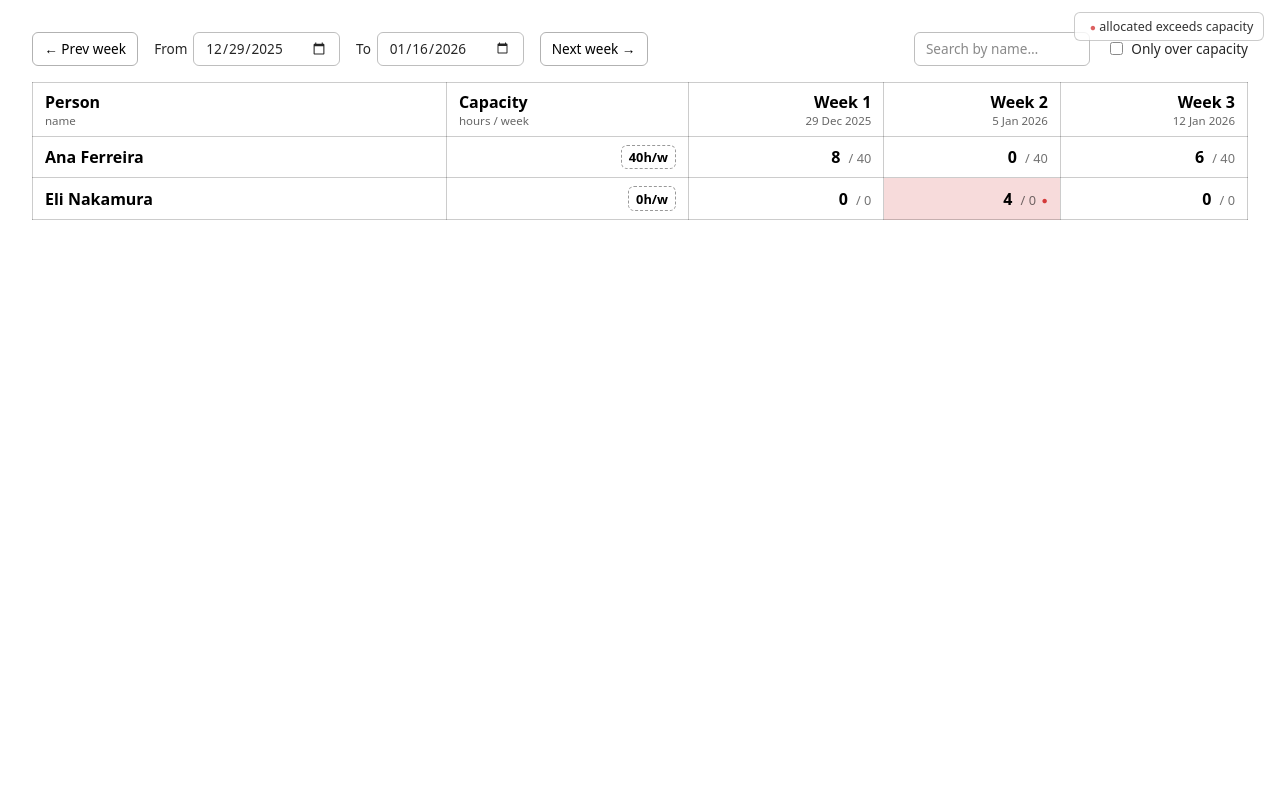
Test: CapacityGrid › shows a retry toast and rolls back when a save fails
Expected: the column heading "Ana Ferreira" is shown, [32,136,446,178]
Click the button titled "Edit Ana Ferreira's weekly hours" at (648, 157), box [621,145,676,169]
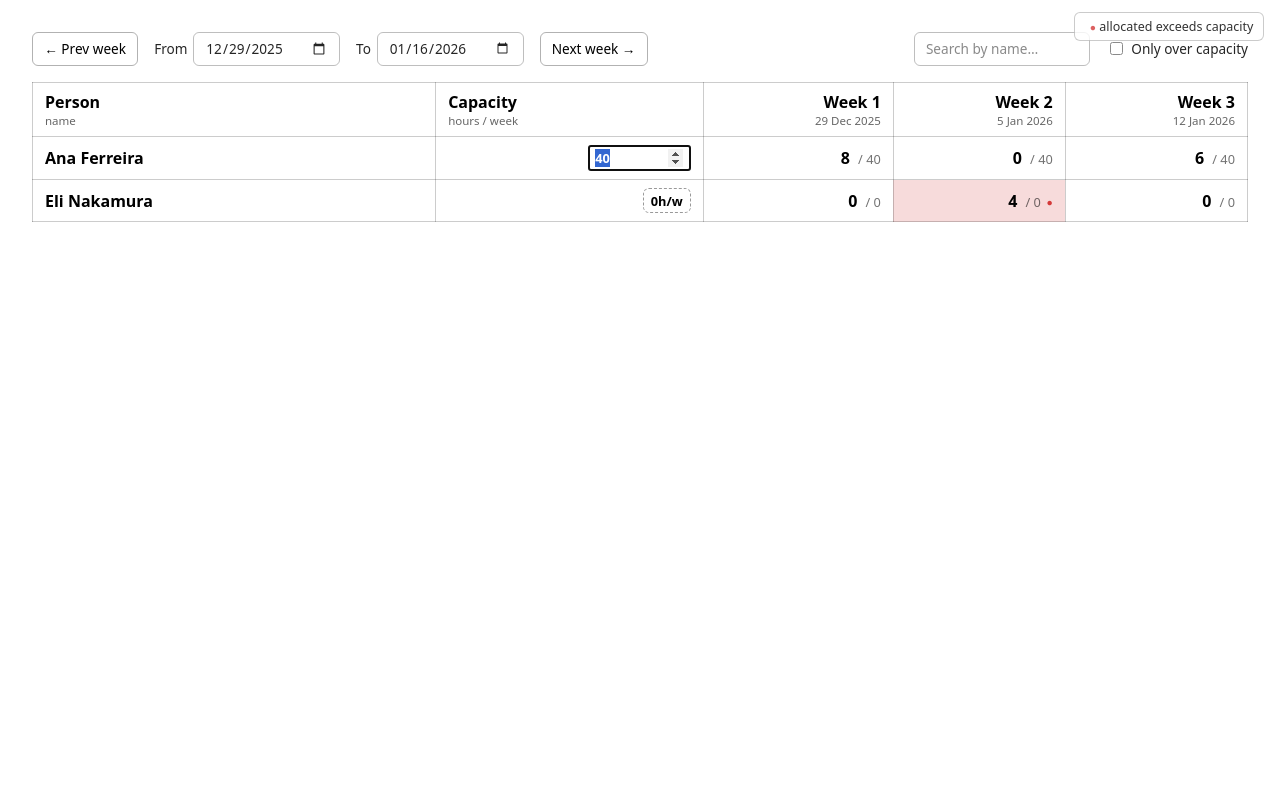
Replace the text in the number field named "Weekly hours for Ana Ferreira" with "36" at (639, 158), box [588,145,691,171]
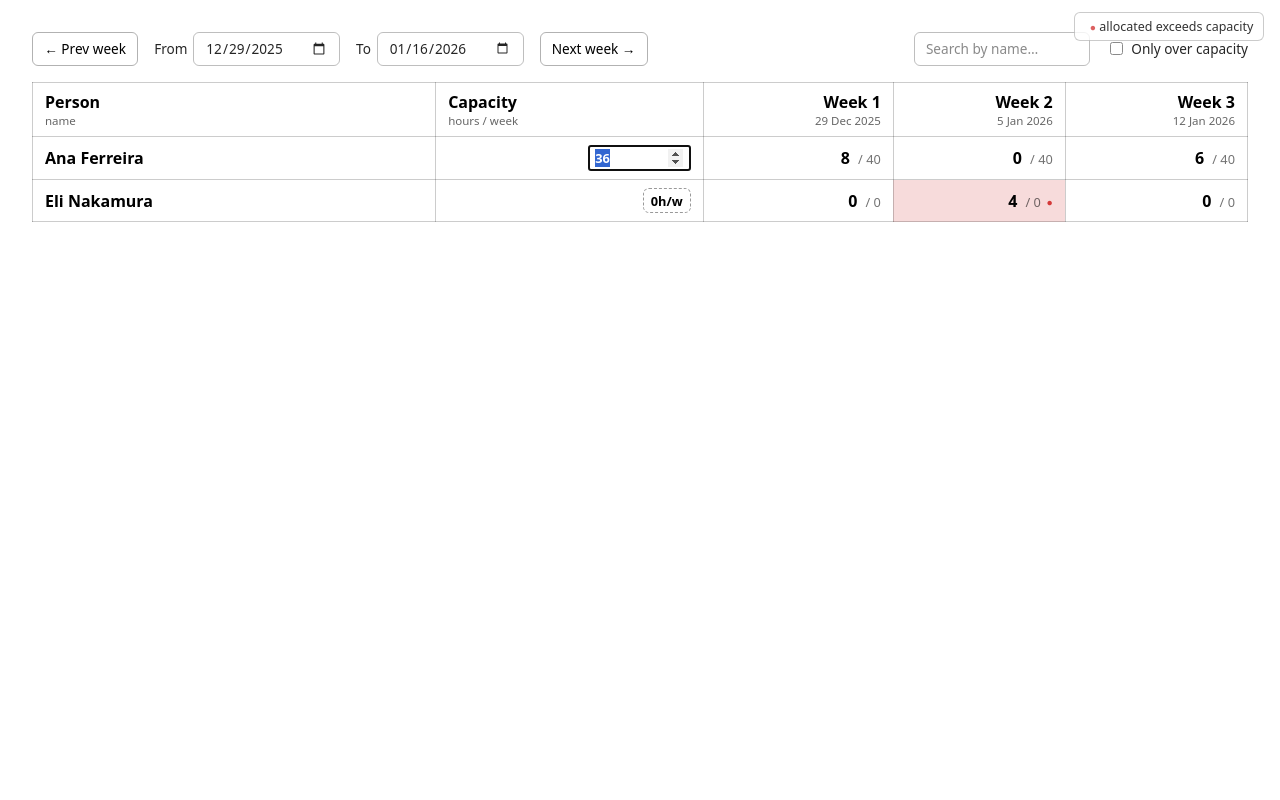
Leave the number field named "Weekly hours for Ana Ferreira", box [588,145,691,171]
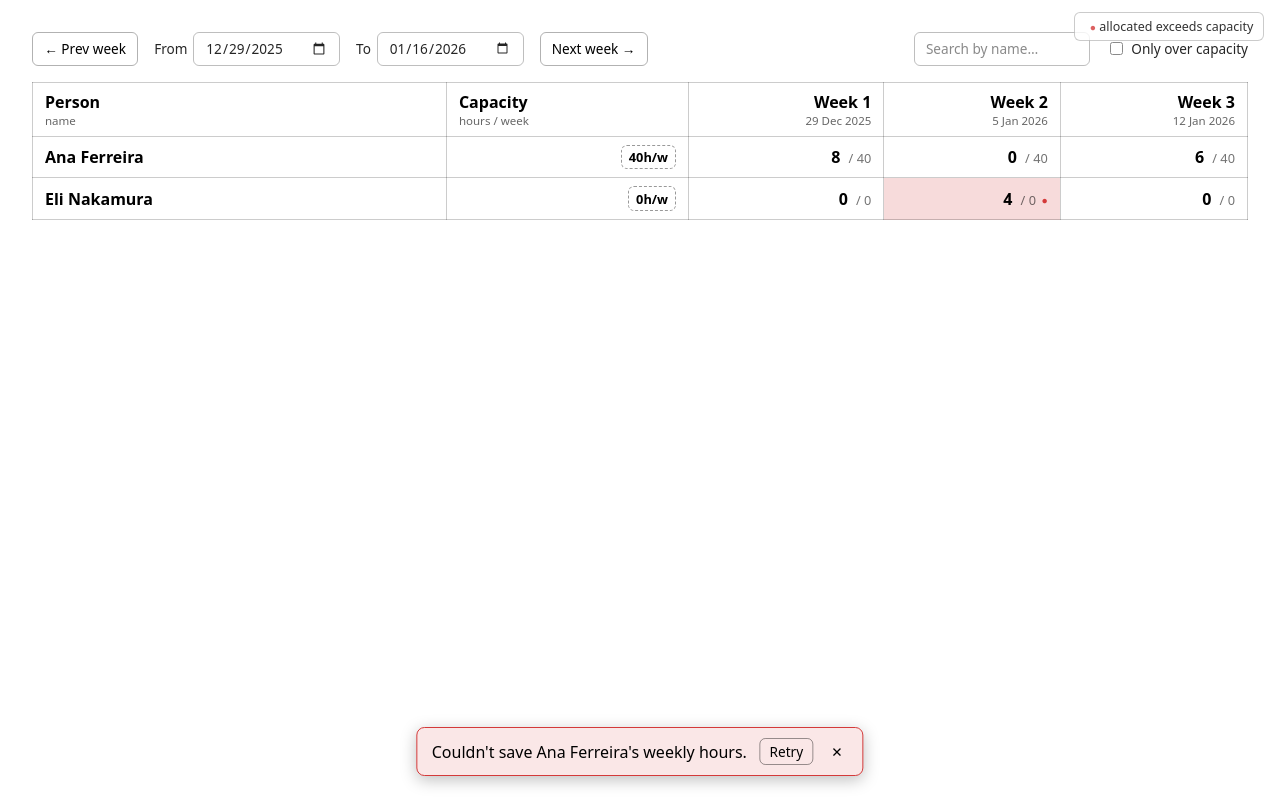
Now the text "Couldn't save Ana Ferreira's weekly hours." is shown, box [432,741,747,763]
Now the button "Retry" is shown, box [759,738,814,765]
Now the button titled "Edit Ana Ferreira's weekly hours" reads "40h/w", box [621,145,676,169]
